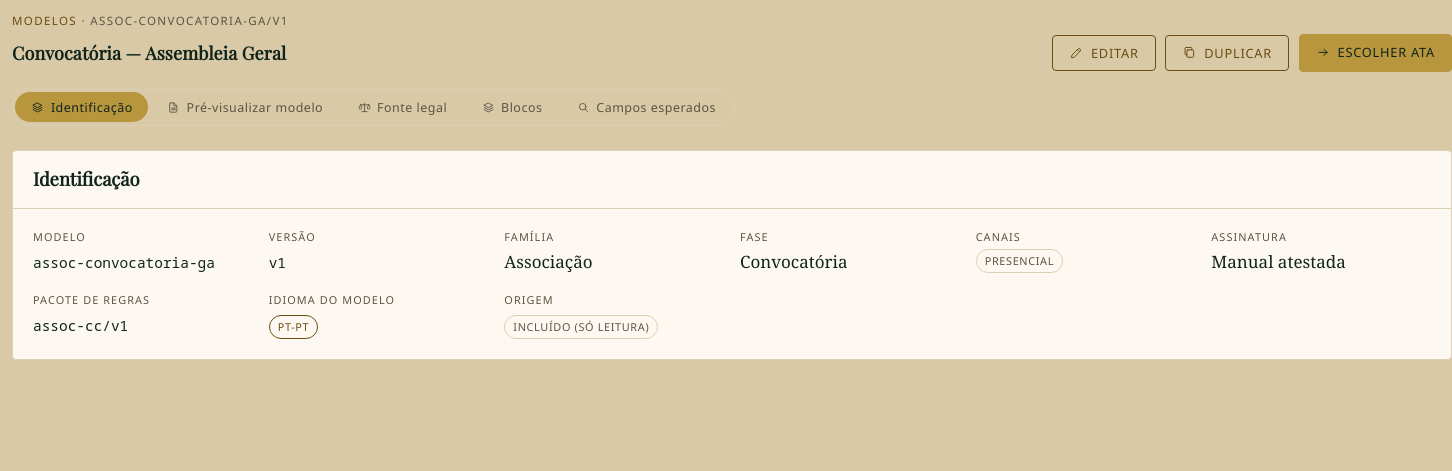
Test: TemplateDetailPage › lists the blocks and the record fields they read
Expected: the heading "Convocatória — Assembleia Geral" is shown, [12,39,286,67]
Click the button "Blocos": (512, 108) [466,93,558,122]
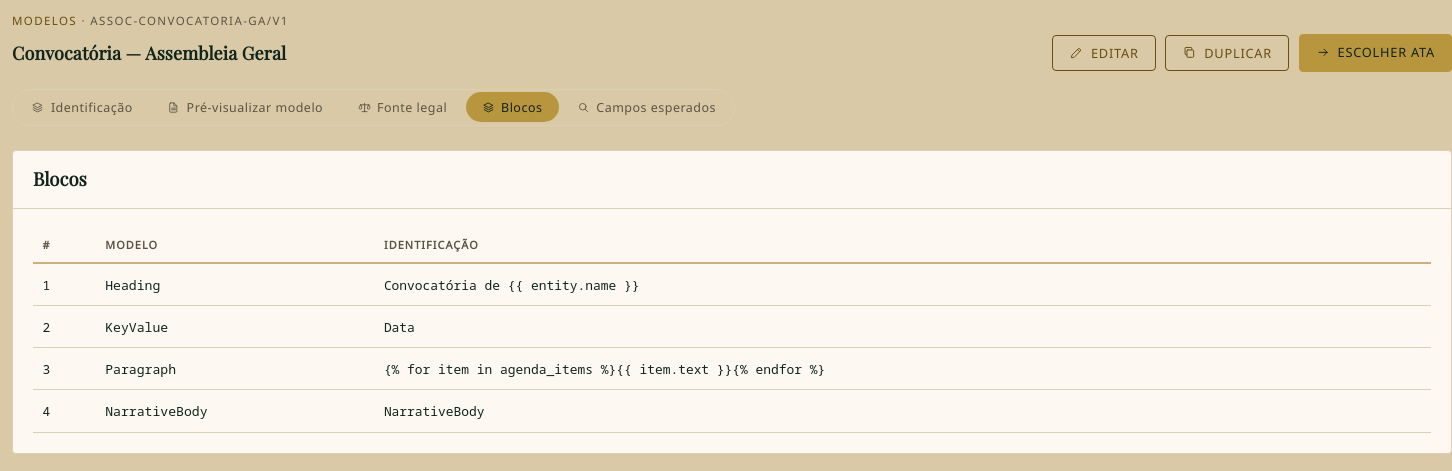
Expected: the text "KeyValue" is shown, [105,318,168,336]
Expected: the text "Convocatória de {{ entity.name }}" is shown, [384,276,639,294]
Click the button "Campos esperados": (646, 108) [561,93,732,122]
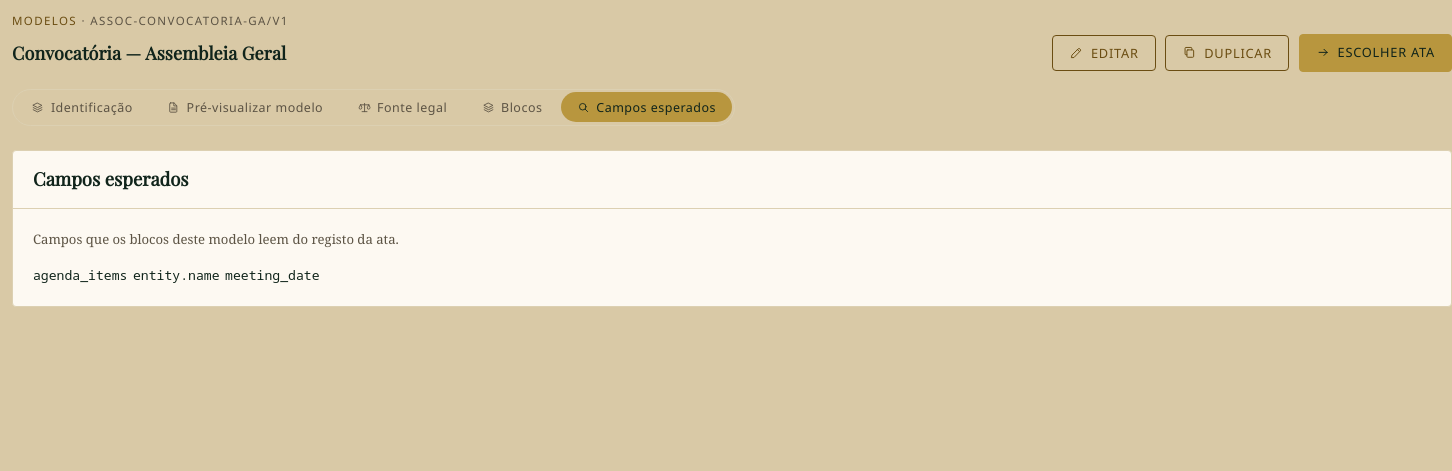
Expected: the text "entity.name" is shown, [133,266,220,286]
Expected: the text "agenda_items" is shown, [33,266,127,286]
Expected: the text "meeting_date" is shown, [225,266,320,286]
